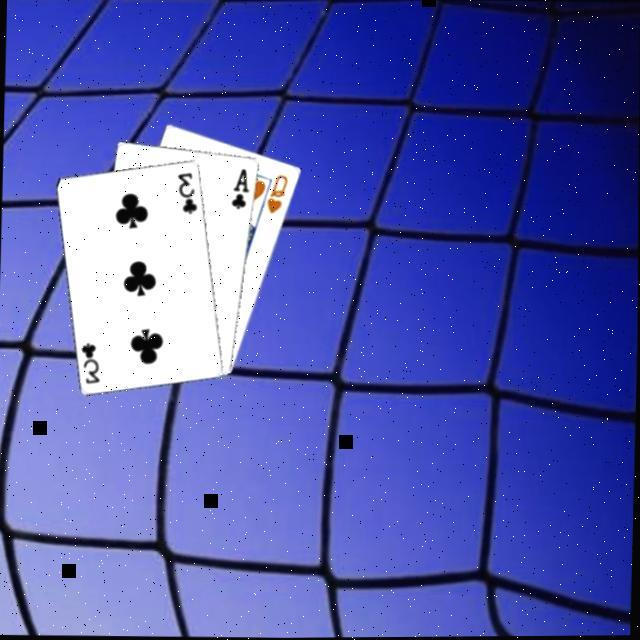3C: (174, 166, 201, 214), (78, 336, 105, 384)
AC: (229, 164, 254, 210)
QH: (264, 169, 291, 215)
